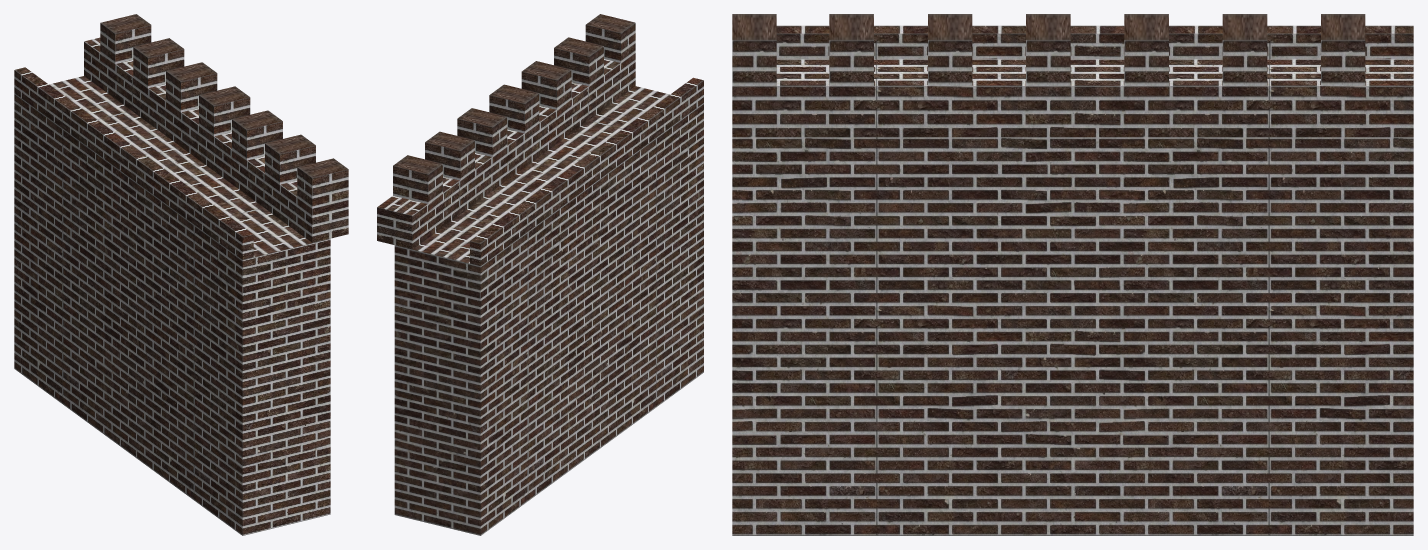
The model's file is WallFortress.dae.
3 views of the same model, side by side, from view 1: azimuth 30°, elevation 25°; view 2: azimuth 150°, elevation 25°; view 3: azimuth 270°, elevation 25° (orthographic). The views are drawn at different scales.
Parts seen in each view (by area): view 1: WallFortress; view 2: WallFortress; view 3: WallFortress.
Part boxes in pixels (bbox=[...]): WallFortress: bbox=[14, 14, 348, 535]; WallFortress: bbox=[377, 14, 703, 535]; WallFortress: bbox=[732, 14, 1413, 535].
Size of the model in its own units: 19.3 by 72 by 59.3.
